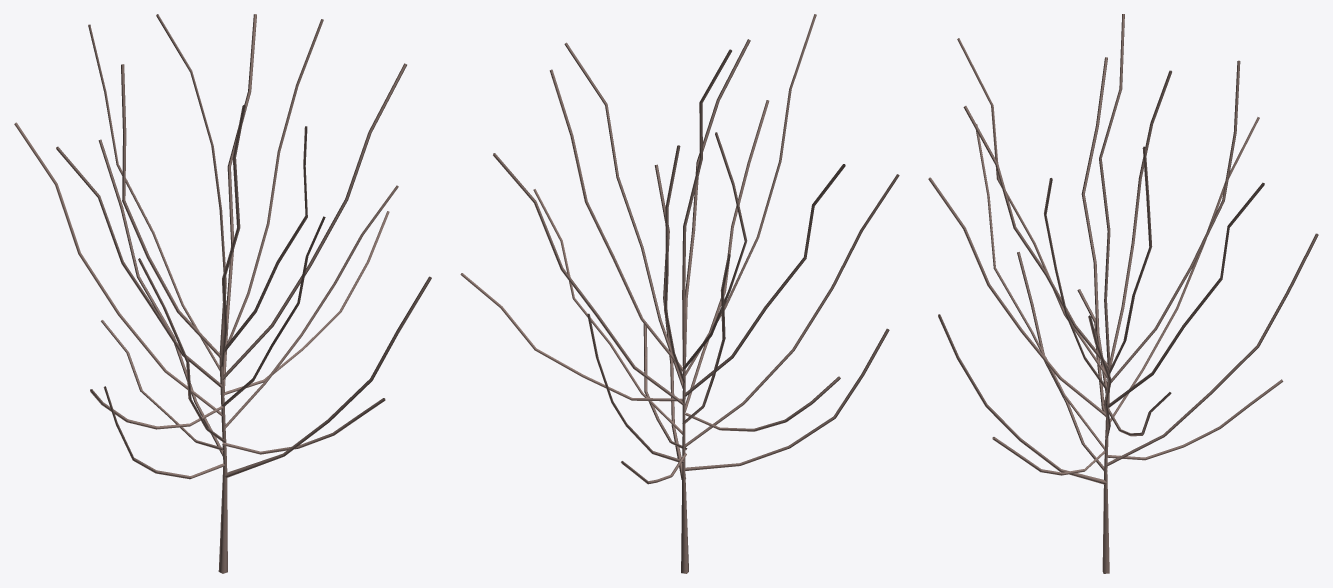
Rendered from branch-bundle-1.fbx.
3 views of the same model, side by side, from view 1: azimuth 30°, elevation 25°; view 2: azimuth 150°, elevation 25°; view 3: azimuth 270°, elevation 25° (orthographic). The views are drawn at different scales.
Parts seen in each view (by area): view 1: tree; view 2: tree; view 3: tree.
Part boxes in pixels (<box>): tree: <box>14,14,431,573</box>; tree: <box>460,14,899,573</box>; tree: <box>928,14,1318,573</box>.
Size of the model in its own units: 314 by 461 by 306.
